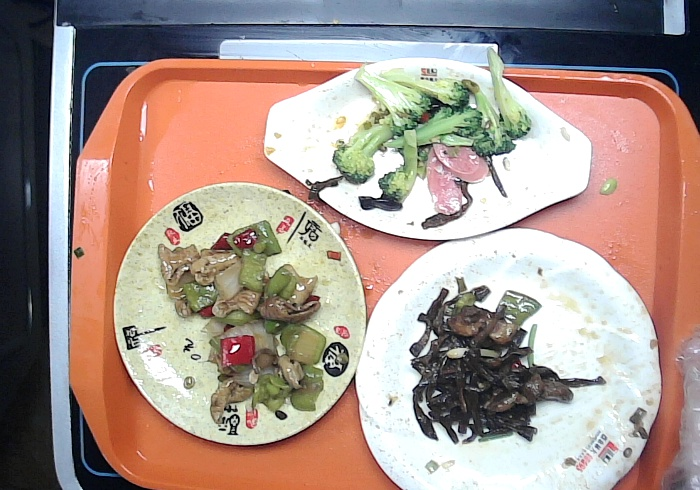NLDX-Bai_Zhe_Yuan_Pan: (356, 229, 666, 490)
NLDX-Fu_Zi_Yuan_Pan: (108, 180, 370, 448)
NLDX-Yu_Pan: (264, 52, 592, 241)
